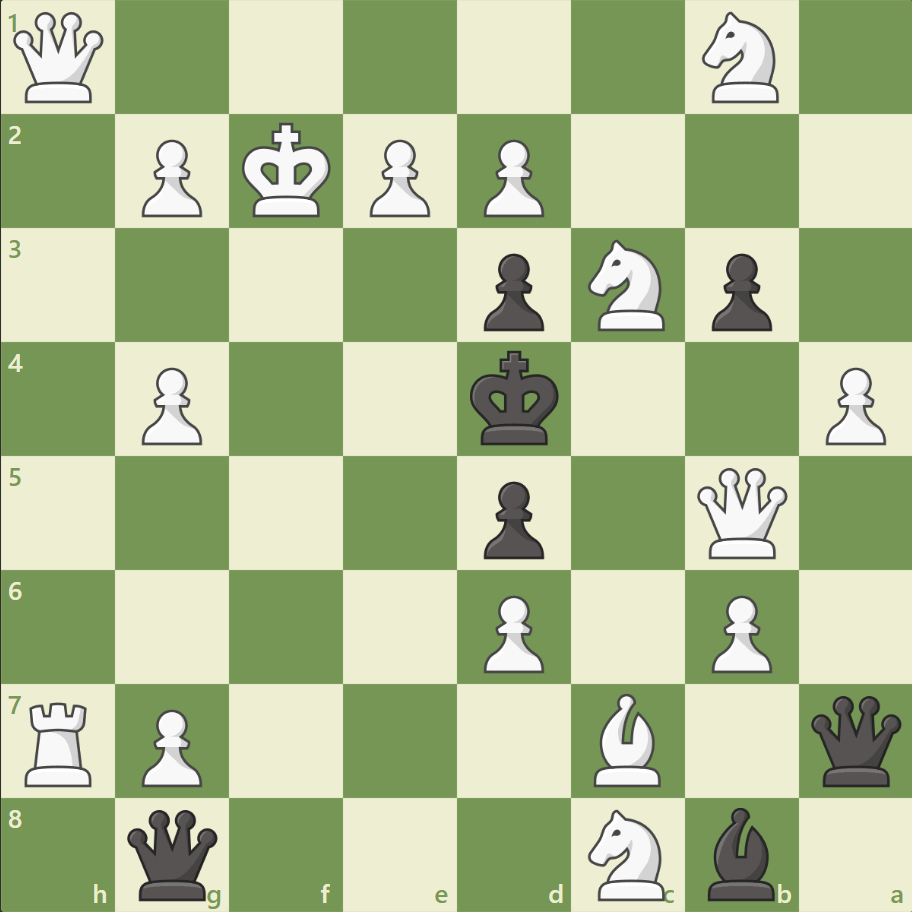B: (585, 687, 669, 790)
K: (238, 117, 338, 225)
N: (579, 234, 676, 337), (692, 7, 789, 110), (579, 802, 676, 904)
P: (133, 700, 208, 791), (701, 586, 776, 677), (474, 586, 549, 677), (133, 359, 208, 450), (474, 132, 549, 223), (133, 132, 208, 223), (815, 359, 889, 450), (361, 132, 435, 223)
Q: (691, 463, 790, 562), (10, 9, 109, 108)
R: (19, 693, 102, 790)
b: (698, 801, 782, 904)
k: (465, 344, 565, 452)
p: (474, 473, 549, 564), (701, 246, 776, 337), (474, 246, 549, 337)
q: (124, 804, 223, 903), (805, 690, 904, 789)
